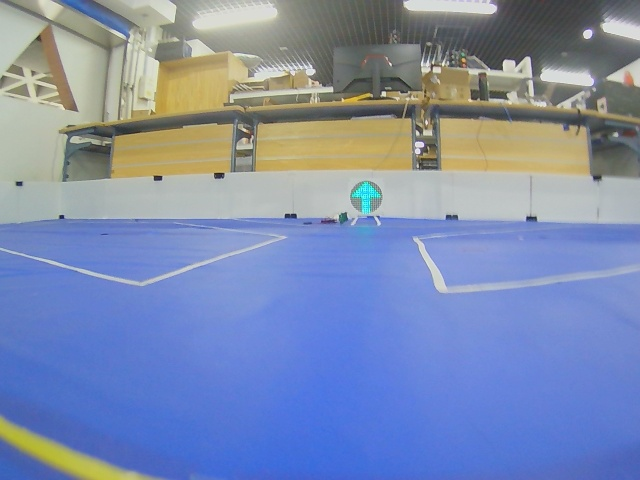straight_green: (350, 181, 382, 215)
